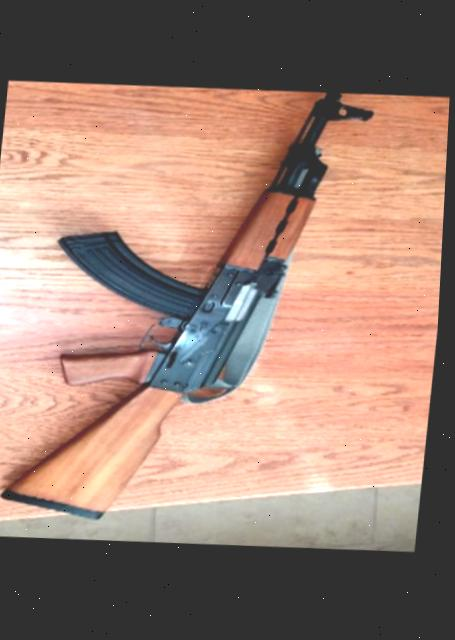rifle: (0, 79, 379, 543)
